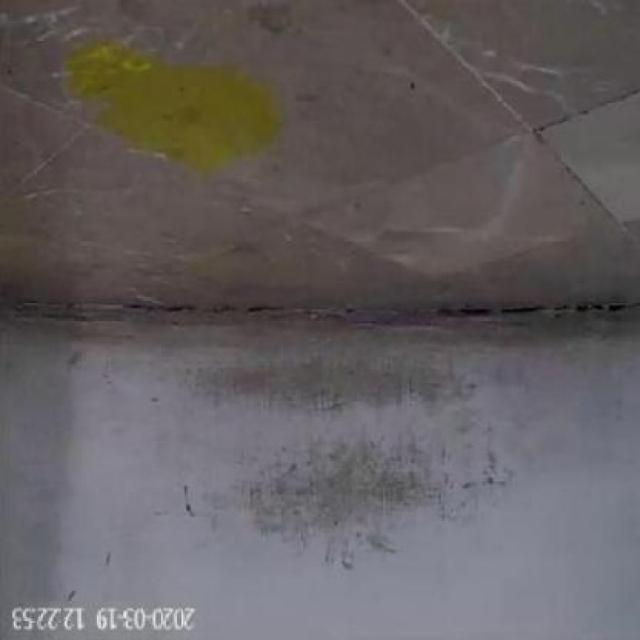spillage: (62, 36, 289, 176)
